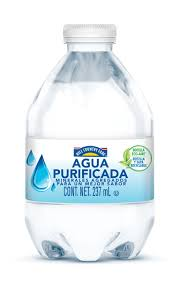Botella: (25, 25, 153, 259)
